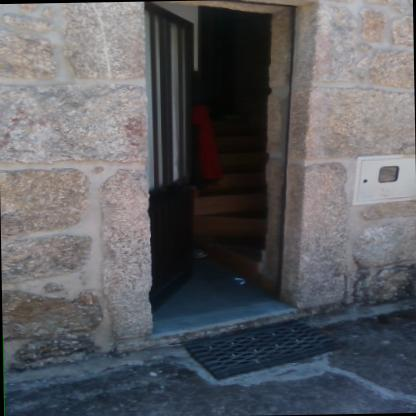semi: (133, 6, 310, 334)
